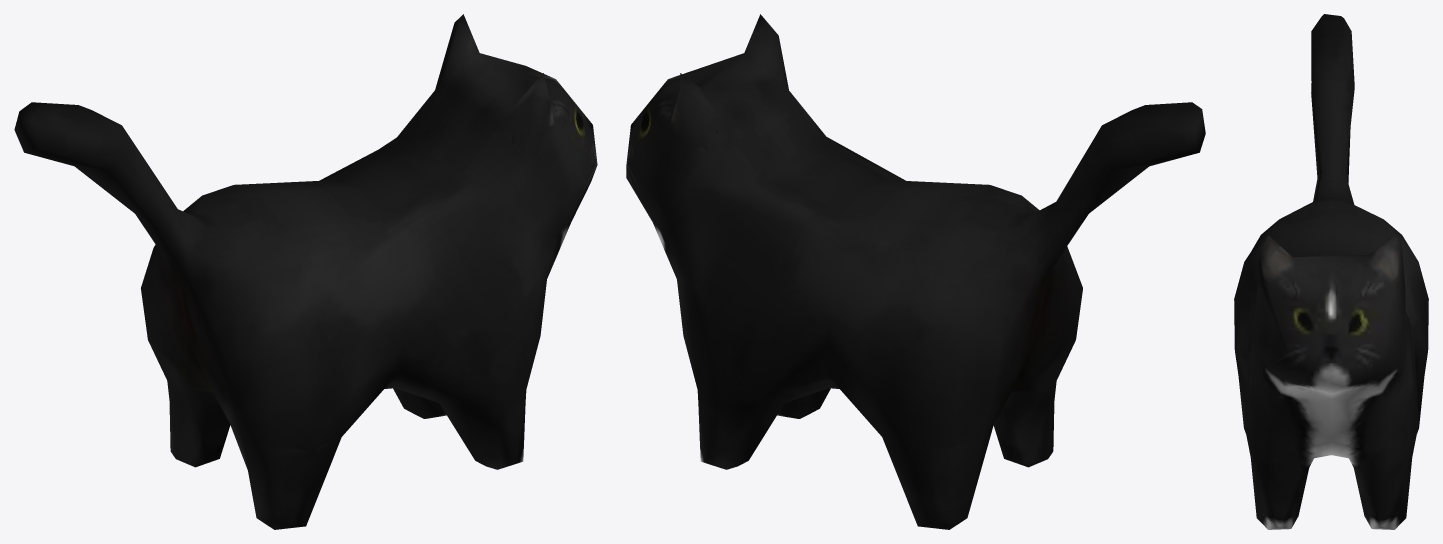
Rendered from cat.glb.
3 views of the same model, side by side, from view 1: azimuth 30°, elevation 25°; view 2: azimuth 150°, elevation 25°; view 3: azimuth 270°, elevation 25° (orthographic). The views are drawn at different scales.
Parts seen in each view (by area): view 1: Object_4; view 2: Object_4; view 3: Object_4.
Boxes of the visible parts, x1=… form: Object_4: x1=14, y1=14, x2=597, y2=529; Object_4: x1=626, y1=14, x2=1205, y2=529; Object_4: x1=1234, y1=14, x2=1428, y2=529.
Bounding box in the file's own units: 0.3981 × 0.2896 × 0.1491.
1 material, 1 textured.
